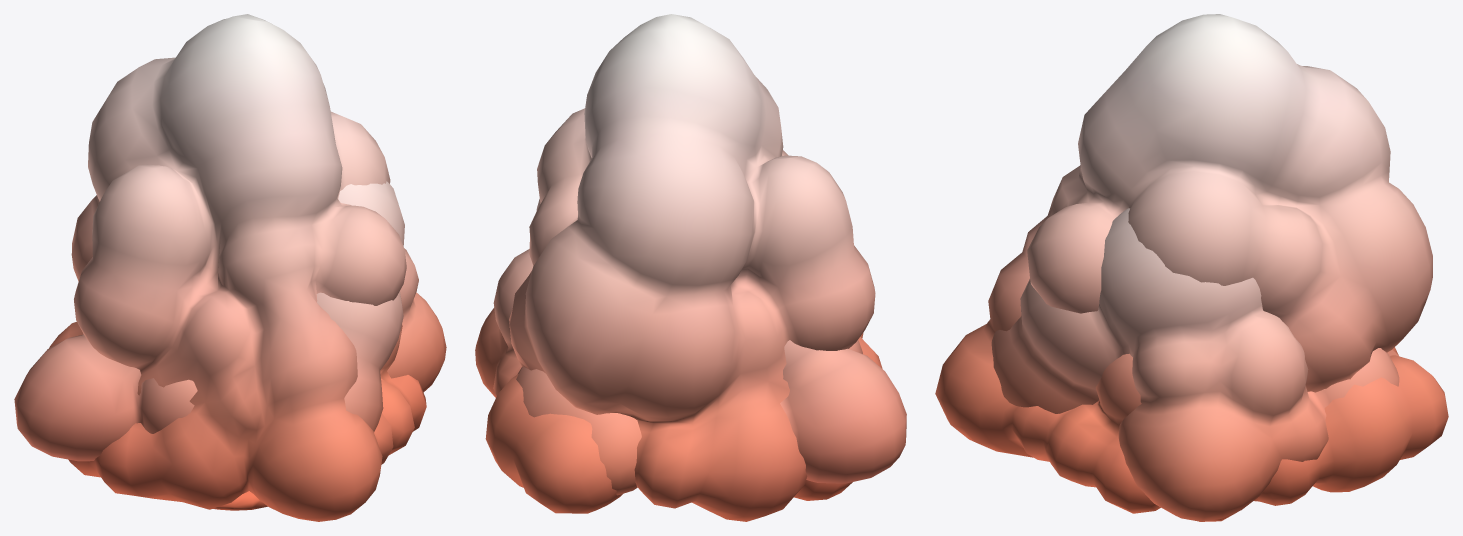
The model's file is LOW-POLY CLOUDS.fbx.
The picture shows the model from 3 angles, left to right: view 1: azimuth 30°, elevation 25°; view 2: azimuth 150°, elevation 25°; view 3: azimuth 270°, elevation 25°; orthographic projection. The views are drawn at different scales.
Parts seen in each view (by area): view 1: clouds 1, clouds; view 2: clouds 1, clouds; view 3: clouds 1, clouds.
Part boxes in pixels (bbox=[...]): clouds 1: bbox=[49, 14, 426, 521]; clouds: bbox=[14, 181, 446, 510]; clouds 1: bbox=[485, 14, 882, 521]; clouds: bbox=[475, 199, 906, 495]; clouds 1: bbox=[935, 14, 1448, 521]; clouds: bbox=[991, 208, 1399, 521].
Size of the model in its own units: 301 by 303 by 311.
